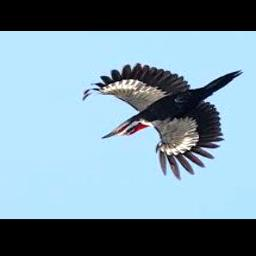Woodpecker: (82, 64, 243, 181)
